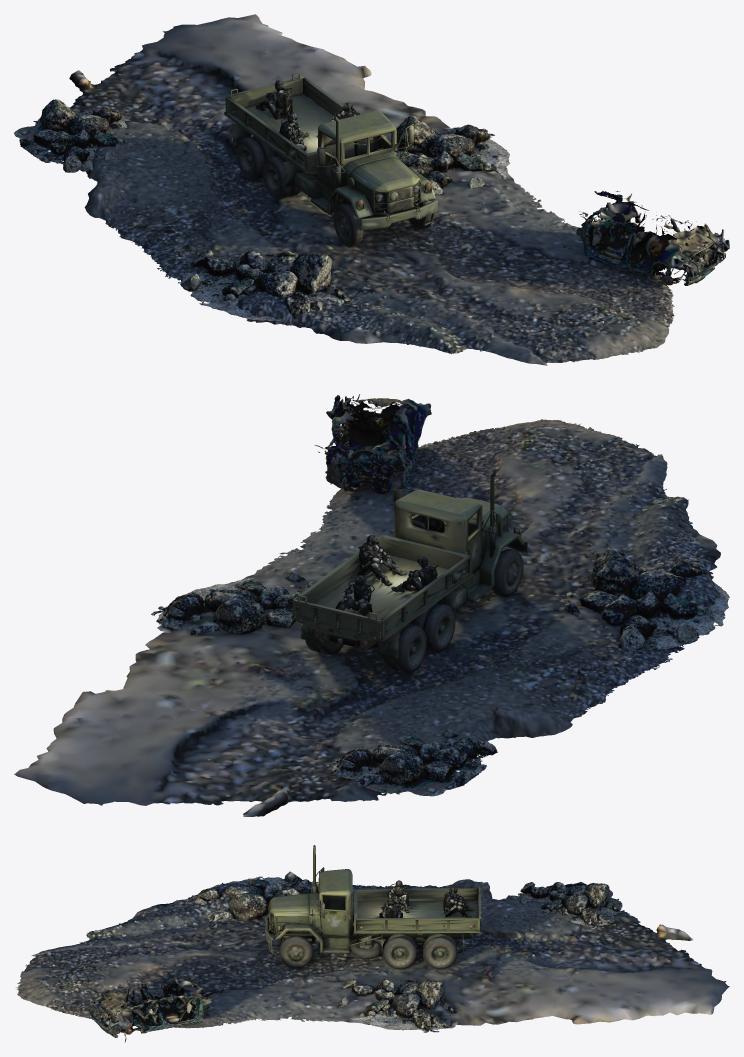
File: truck.glb
The picture shows the model from 3 angles, top to bottom: view 1: azimuth 30°, elevation 25°; view 2: azimuth 150°, elevation 25°; view 3: azimuth 270°, elevation 25°; orthographic projection. The views are drawn at different scales.
Parts seen in each view (by area): view 1: ground, rocks, truck, wheels, characters; view 2: ground, rocks, truck, wheels, characters; view 3: ground, rocks, truck, wheels, characters.
Part boxes in pixels (x1,y1,x2,y2): ground: (69,14,674,365); rocks: (14,99,729,324); truck: (224,73,437,231); wheels: (236,136,431,246); characters: (255,80,359,151); ground: (14,419,720,816); rocks: (151,394,729,796); truck: (291,470,527,661); wheels: (305,549,523,673); characters: (335,535,438,615); ground: (15,879,729,1028); rocks: (87,871,622,1042); truck: (265,845,481,959); wheels: (279,933,456,969); characters: (379,880,475,917).
Bounding box in the file's own units: 27.39 × 7.96 × 49.5.
